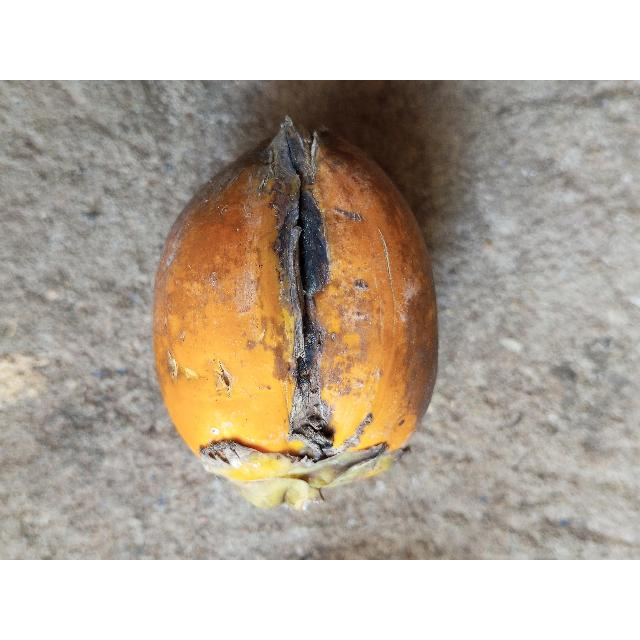damaged: (151, 120, 440, 509)
